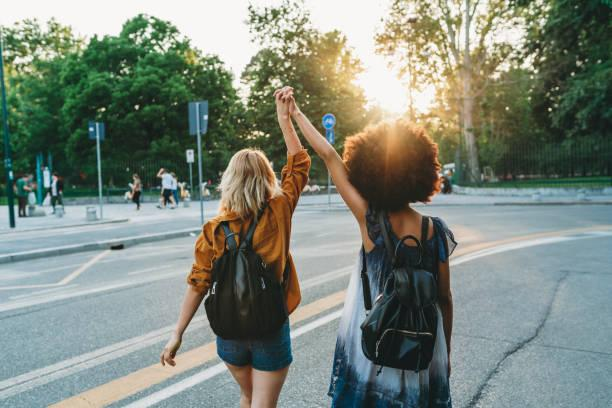Shorts: (215, 318, 294, 369)
